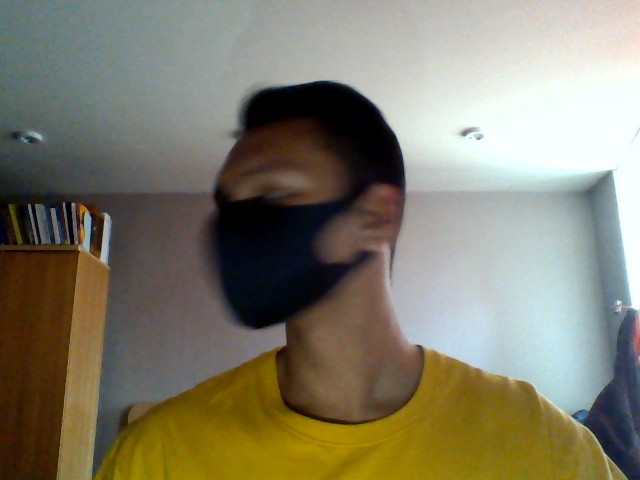mask: (201, 201, 345, 331)
